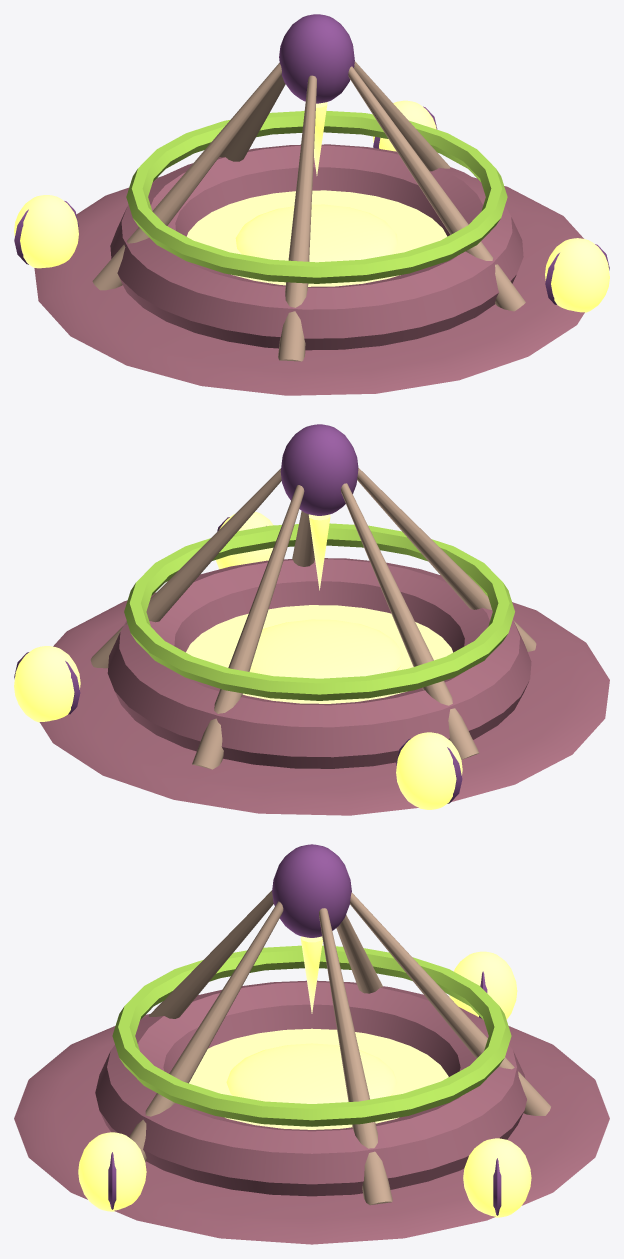
Rendered from medic_ins.glb.
3 views of the same model, one above another, from view 1: azimuth 30°, elevation 25°; view 2: azimuth 150°, elevation 25°; view 3: azimuth 270°, elevation 25° (orthographic). The views are drawn at different scales.
Visible parts, largest first — view 1: medic_ins; view 2: medic_ins; view 3: medic_ins.
Boxes of the visible parts, left/top/right/bottom form: medic_ins: left=14, top=14, right=609, bottom=395; medic_ins: left=14, top=424, right=609, bottom=815; medic_ins: left=14, top=844, right=609, bottom=1244.
Bounding box in the file's own units: 2.09 × 1.11 × 2.09.
